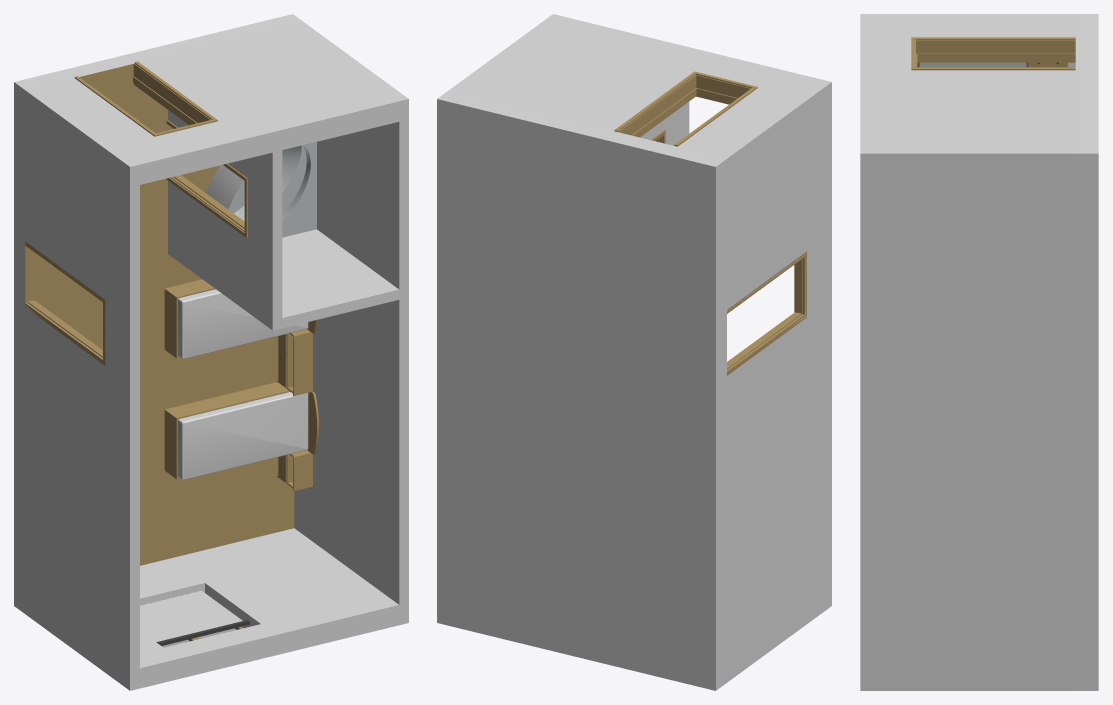
The model's file is hotl-rm3.fbx.
3 renders of one model, left to right at view 1: azimuth 30°, elevation 25°; view 2: azimuth 150°, elevation 25°; view 3: azimuth 270°, elevation 25°, orthographic. The views are drawn at different scales.
Visible parts, largest first — view 1: 74:1:1, 103:1:1, 52:1:8, 109:1:1, 119:1:1, 70:1:1, 52:1:8_2, 29:2:6, 71:1:1, 23:2:6, 61:2:6, 29:1:6 (+9 smaller); view 2: 52:1:8_2, 74:1:1, 109:1:1, 119:1:1, 108:1:5, 70:1:1, 75:1:5; view 3: 103:1:1, 109:1:1, 52:1:8_2, 119:1:1, 108:1:5, 108:9:5, 108:2:5, 108:3:5, 31:21:6.
Boxes of the visible parts, x1,y1,x2,y2 form: 74:1:1: [25, 111, 139, 670]; 103:1:1: [294, 119, 408, 604]; 52:1:8: [25, 64, 294, 565]; 109:1:1: [25, 22, 408, 187]; 119:1:1: [25, 528, 408, 690]; 70:1:1: [168, 110, 282, 330]; 52:1:8_2: [14, 14, 303, 613]; 29:2:6: [181, 393, 308, 480]; 71:1:1: [273, 229, 399, 330]; 23:2:6: [181, 291, 308, 359]; 61:2:6: [140, 590, 242, 641]; 29:1:6: [164, 382, 318, 479]; 52:1:8_2: [437, 91, 726, 690]; 74:1:1: [727, 102, 831, 661]; 109:1:1: [448, 14, 831, 178]; 119:1:1: [727, 586, 831, 682]; 108:1:5: [618, 75, 750, 145]; 70:1:1: [640, 102, 689, 145]; 75:1:5: [727, 255, 805, 372]; 103:1:1: [860, 174, 1075, 669]; 109:1:1: [860, 14, 1075, 174]; 52:1:8_2: [1075, 14, 1098, 690]; 119:1:1: [860, 670, 1075, 690]; 108:1:5: [915, 40, 1075, 67]; 108:9:5: [917, 53, 1075, 61]; 108:2:5: [911, 67, 1075, 70]; 108:3:5: [912, 37, 1075, 40]; 31:21:6: [919, 62, 1026, 67].
Size of the model in its own units: 4.3 by 7.74 by 3.1.
